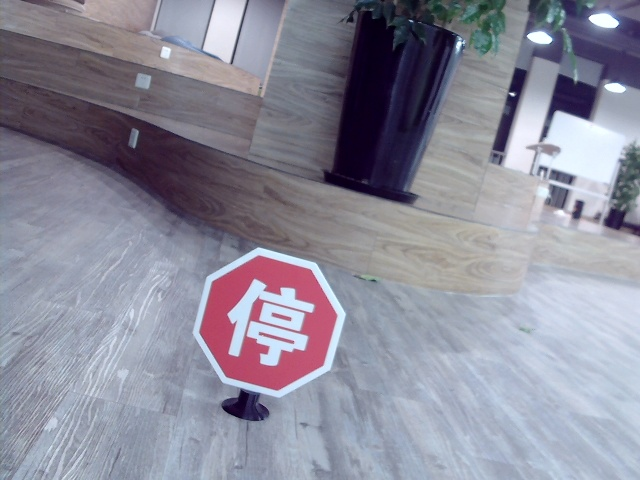stop: (226, 272, 309, 367)
